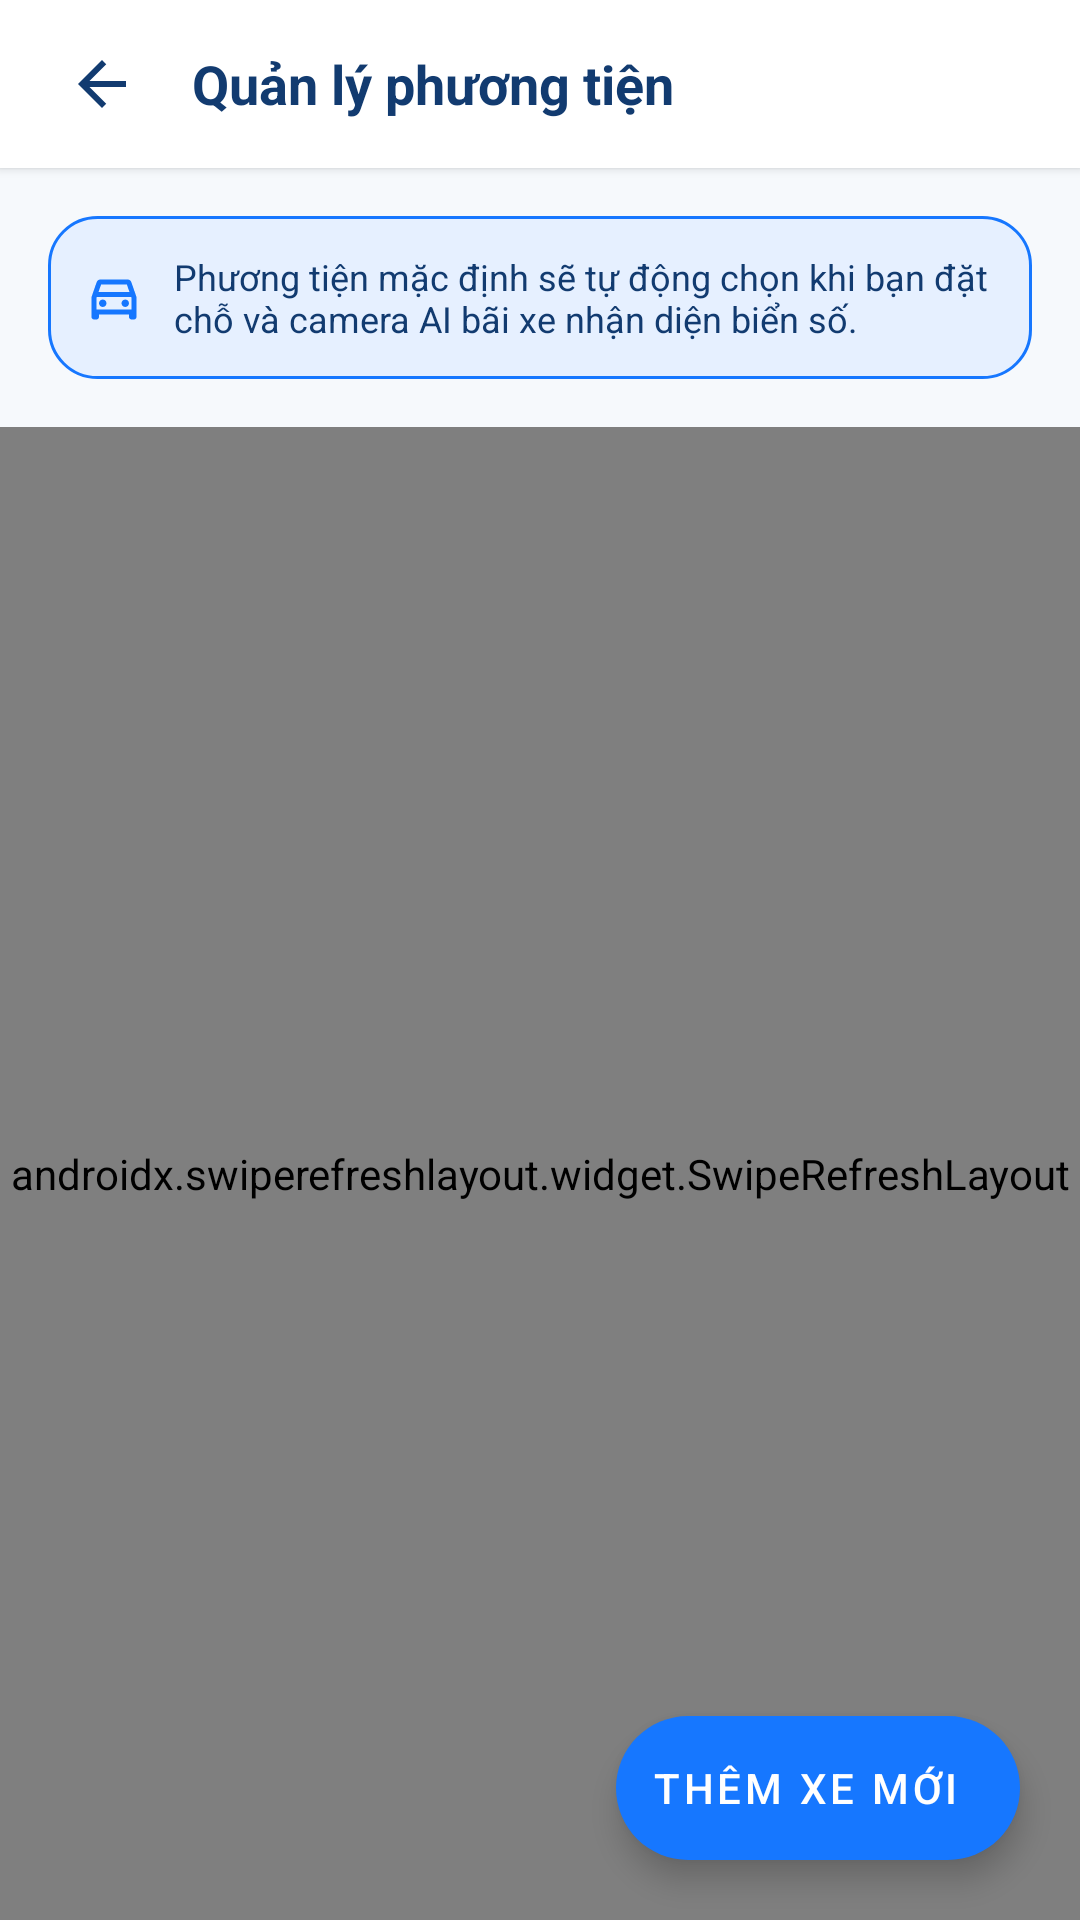

Named icons in this screenshot (1080px x 1920px) and their centers, (x,y):
Quay lại: (102,84)
